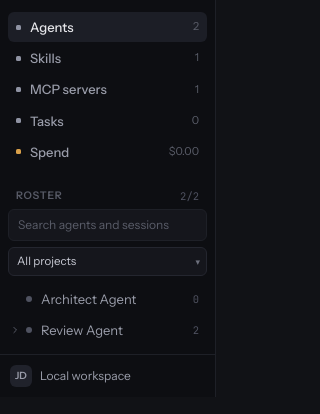
Test: Sidebar › finds an agent by a session name its own name does not mention
Type "pool" into the field labelled "Search agents and sessions" at {"x": 108, "y": 225}, box [8, 209, 207, 241]
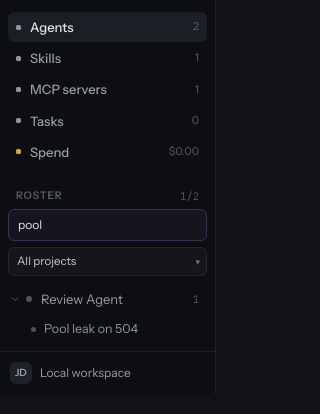
expect the text "Review Agent" is shown: met, box [41, 290, 123, 308]
expect the button "Architect Agent" is gone: met
